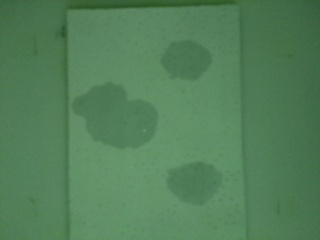Water_detected: (80, 97, 149, 139), (178, 169, 212, 193), (174, 45, 194, 72)
